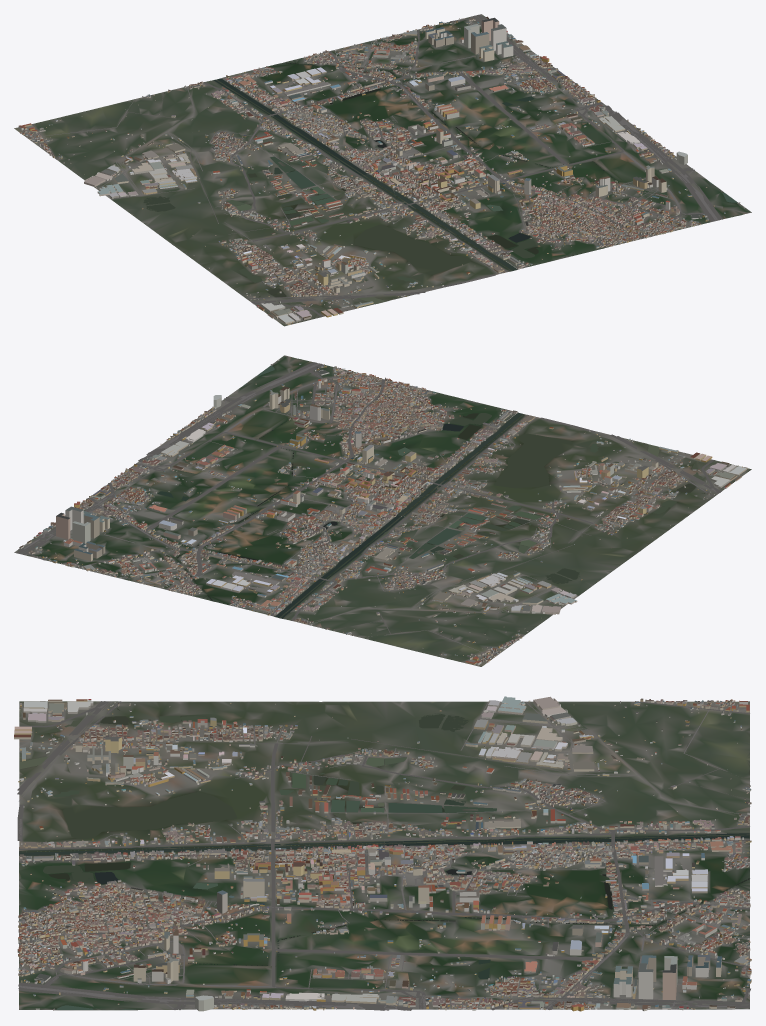
The picture shows the model from 3 angles, top to bottom: view 1: azimuth 30°, elevation 25°; view 2: azimuth 150°, elevation 25°; view 3: azimuth 270°, elevation 25°; orthographic projection. The views are drawn at different scales.
Parts seen in each view (by area): view 1: ground, buildings, roads, water; view 2: ground, buildings, roads, water; view 3: ground, buildings, roads, water.
Boxes of the visible parts, left/top/right/bottom form: ground: left=14, top=14, right=751, bottom=326; buildings: left=18, top=16, right=744, bottom=324; roads: left=32, top=14, right=722, bottom=317; water: left=143, top=62, right=737, bottom=308; ground: left=14, top=355, right=751, bottom=666; buildings: left=19, top=359, right=747, bottom=665; roads: left=16, top=362, right=721, bottom=662; water: left=157, top=365, right=704, bottom=618; ground: left=19, top=701, right=749, bottom=1010; buildings: left=14, top=696, right=751, bottom=1011; roads: left=17, top=701, right=750, bottom=1010; water: left=19, top=708, right=749, bottom=1009.
Bounding box in the file's own units: 2845 × 122 × 2831.
